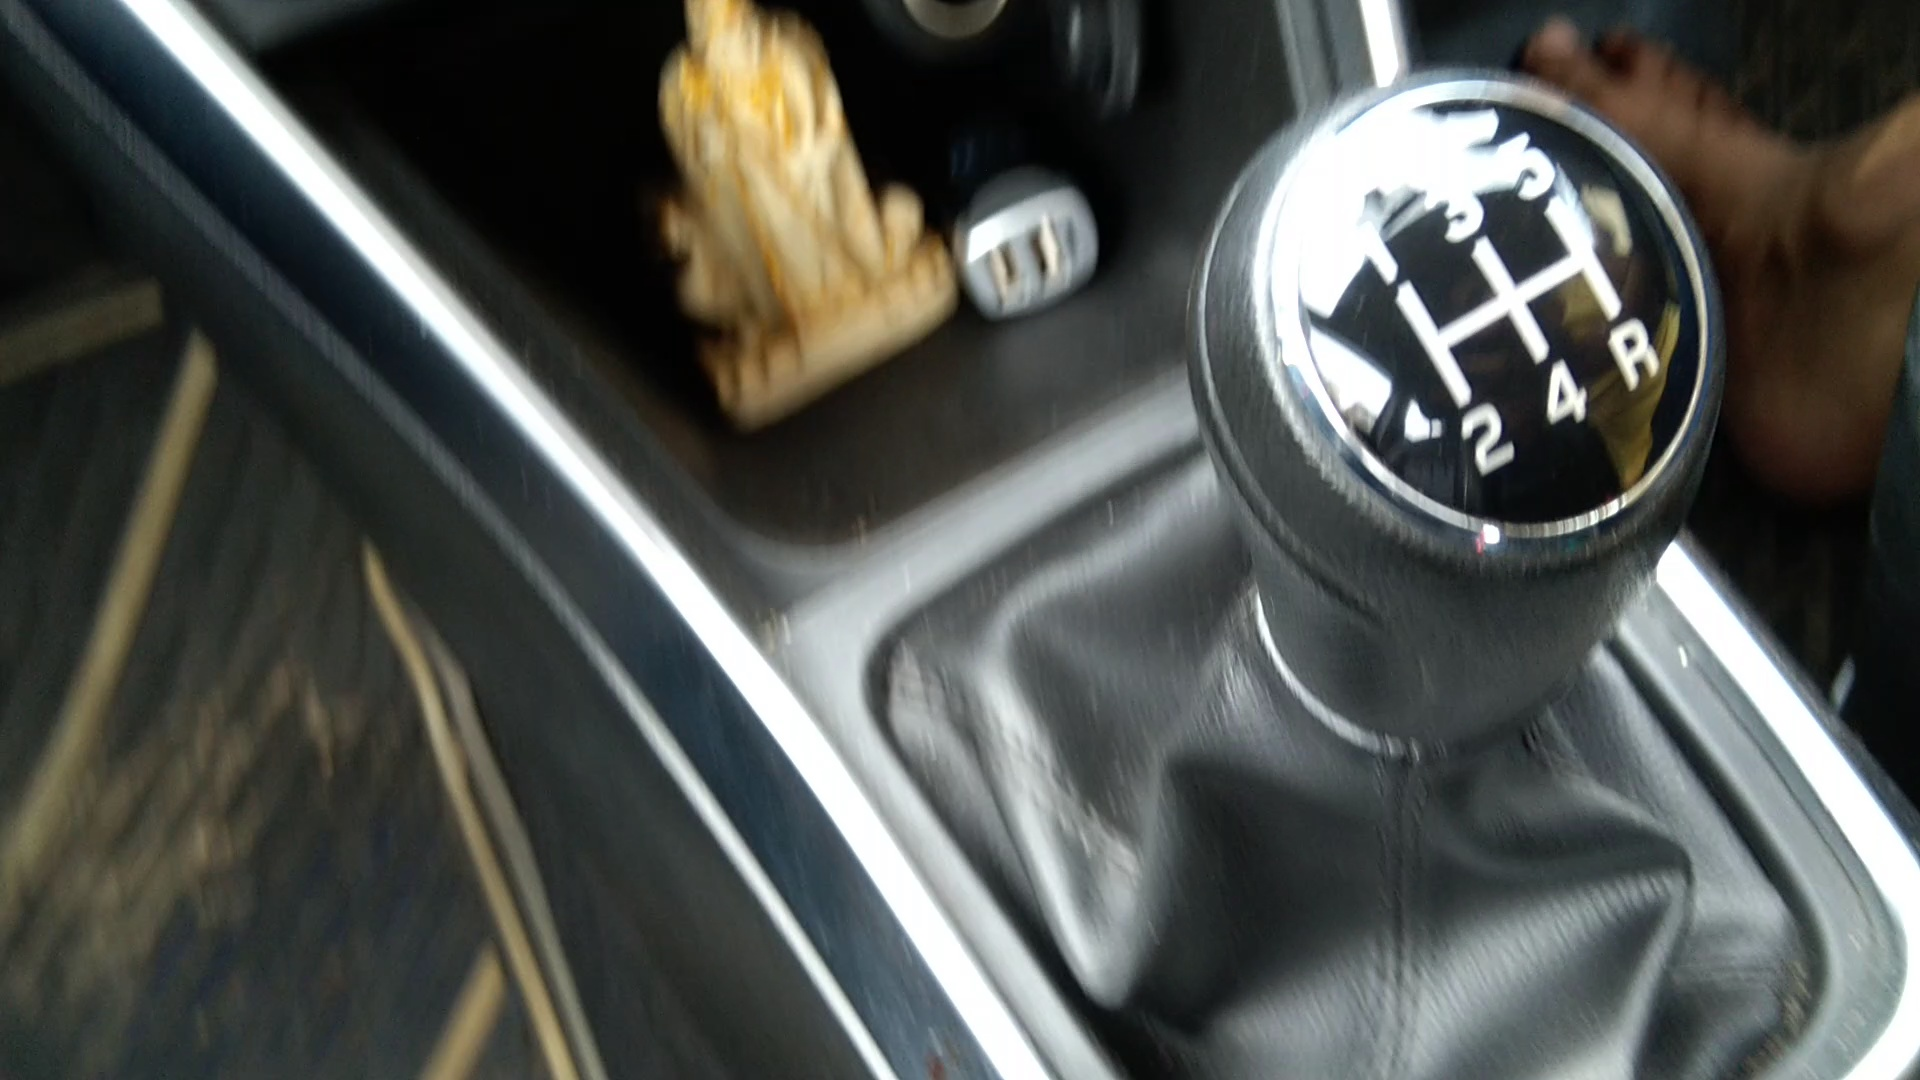manual_gear: (1171, 73, 1724, 847)
